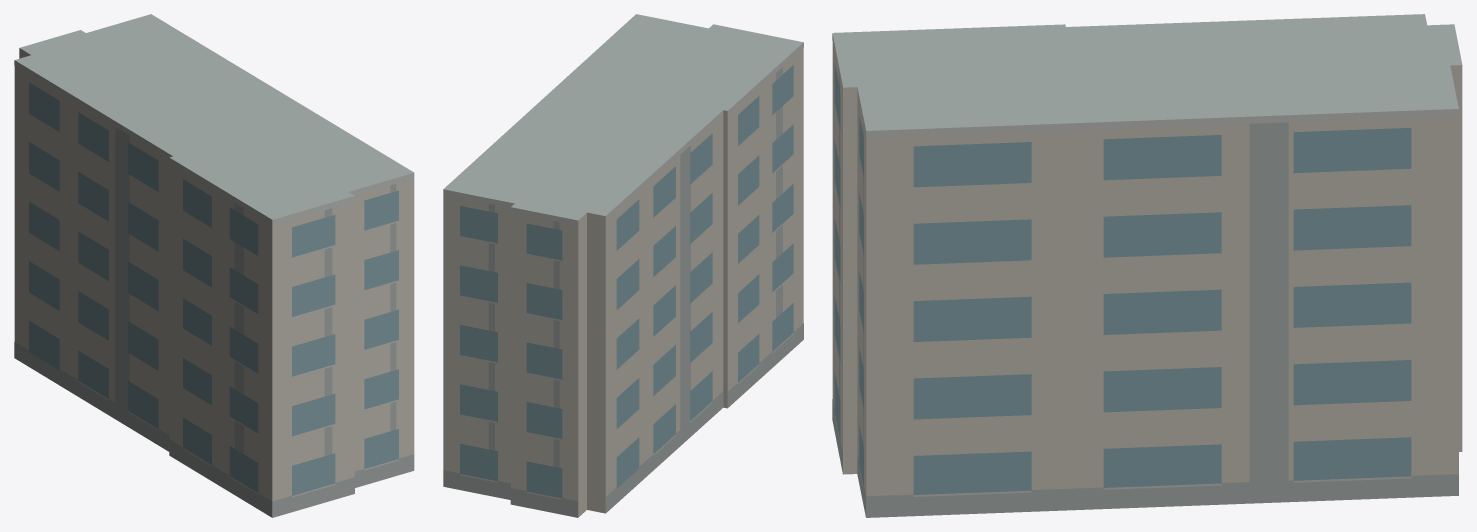
Rendered from survey-upis-32979542.glb.
The picture shows the model from 3 angles, left to right: view 1: azimuth 30°, elevation 25°; view 2: azimuth 150°, elevation 25°; view 3: azimuth 270°, elevation 25°; orthographic projection. The views are drawn at different scales.
Visible parts, largest first — view 1: survey-upis-32979542.tmp; view 2: survey-upis-32979542.tmp; view 3: survey-upis-32979542.tmp.
Part boxes in pixels (bbox=[...]): survey-upis-32979542.tmp: bbox=[14, 14, 414, 517]; survey-upis-32979542.tmp: bbox=[443, 14, 803, 517]; survey-upis-32979542.tmp: bbox=[832, 14, 1462, 517].
Bounding box in the file's own units: 8.5 × 13.1 × 19.34.
